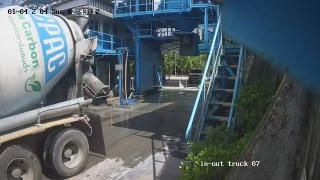cement_mixer_truck: (0, 7, 96, 180)
